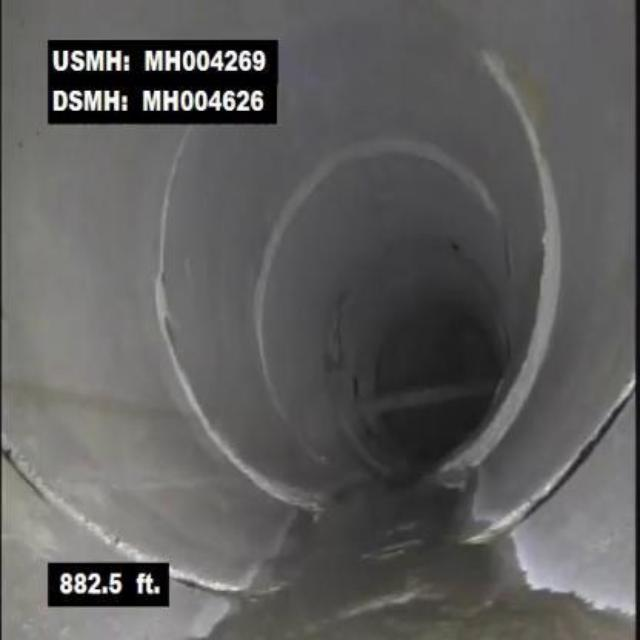Joint offset: (502, 152, 569, 426), (443, 411, 512, 468)
